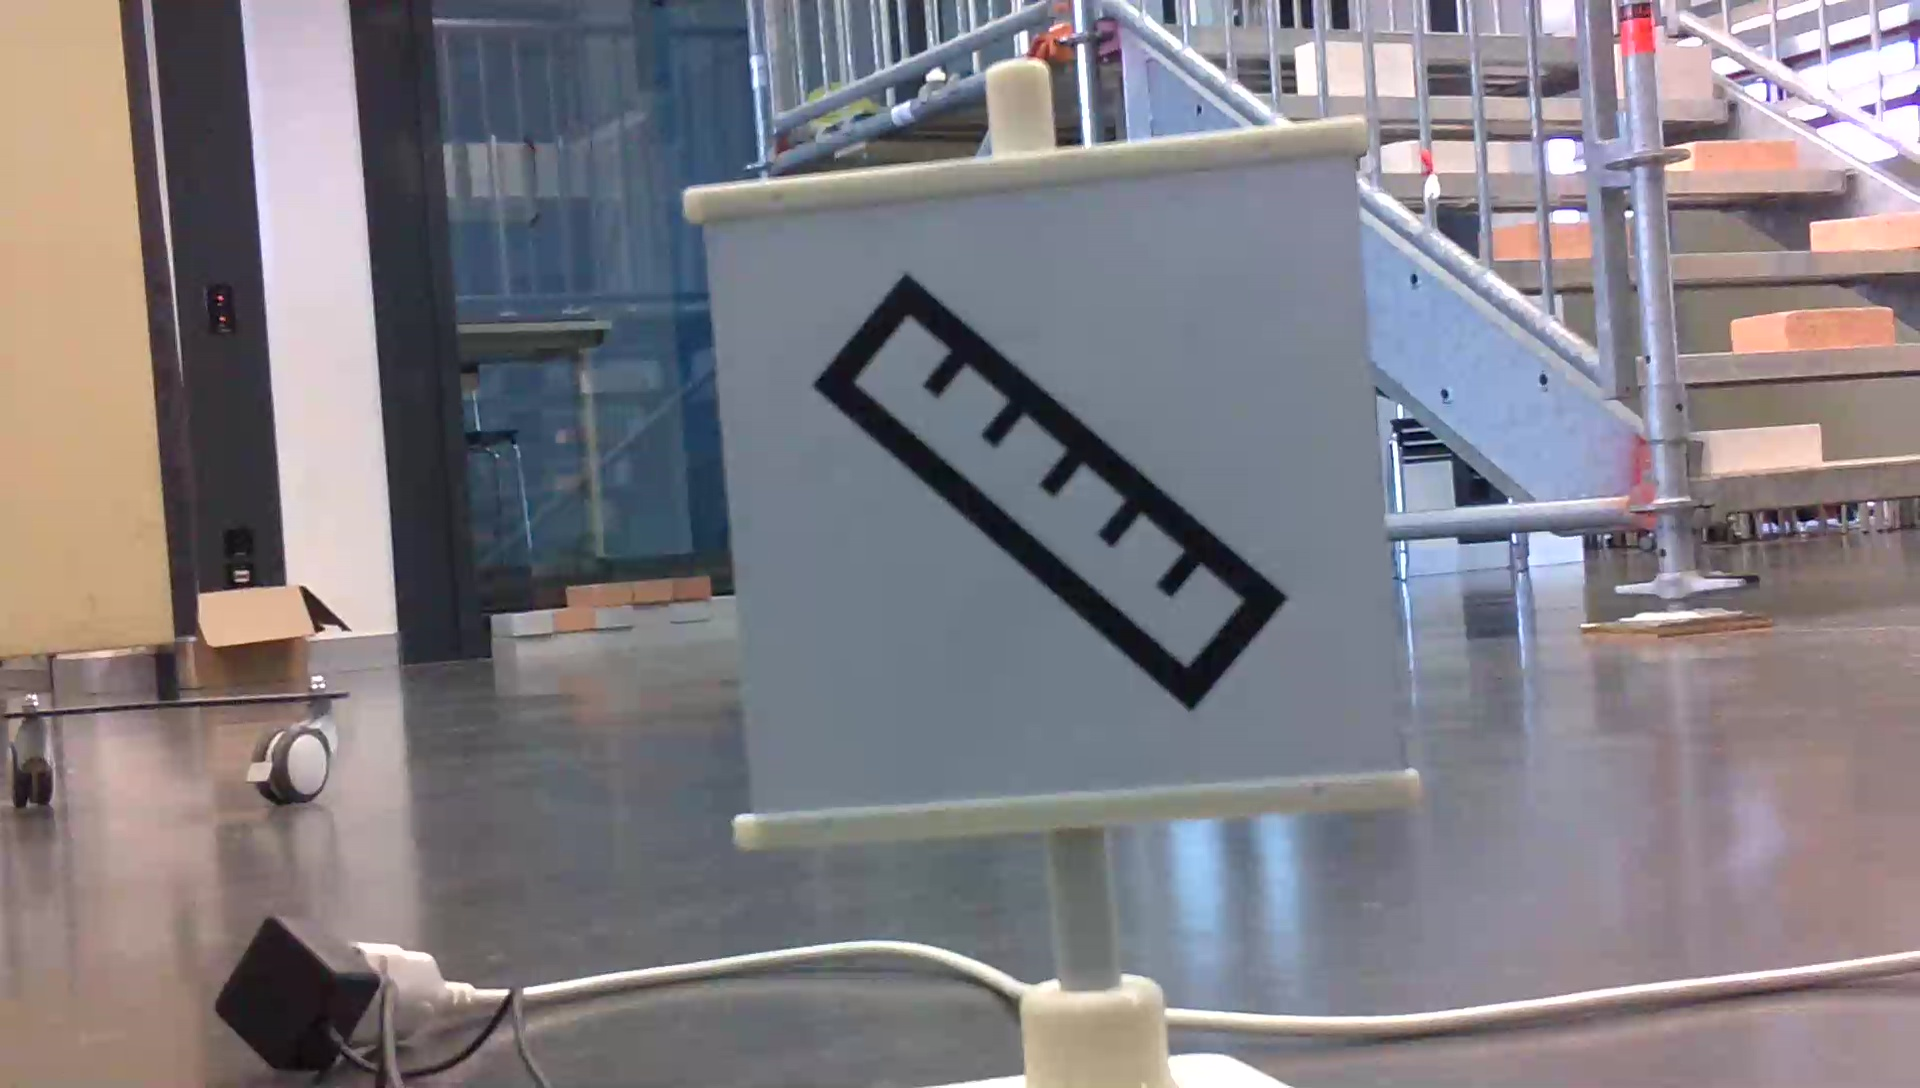brick: (1687, 411, 1830, 484), (1735, 299, 1909, 357), (1484, 206, 1633, 265), (1667, 129, 1797, 178), (1815, 212, 1920, 253), (1385, 138, 1495, 174), (1656, 34, 1712, 102)
ruler: (800, 261, 1304, 719)
